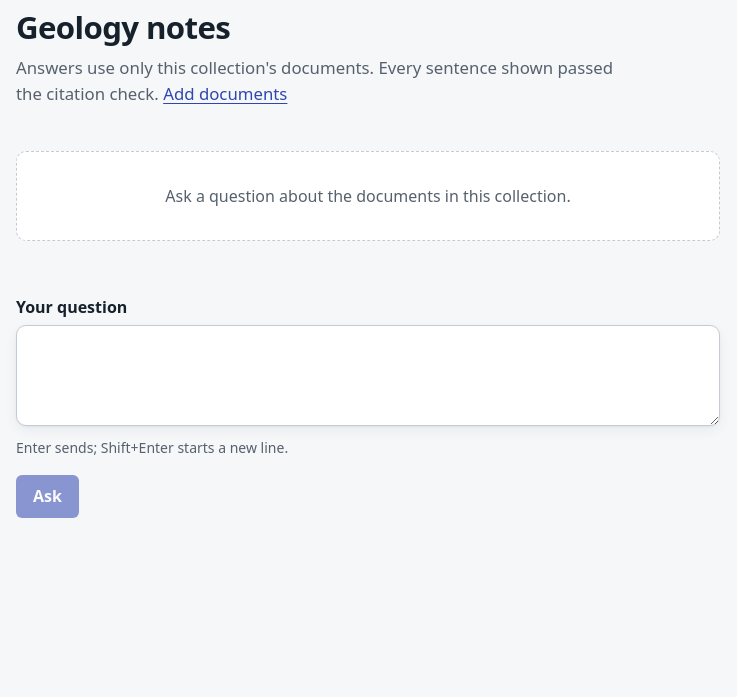
Test case: retry is disabled, and says why, while another answer is streaming
The width and height of the screenshot is (737, 697).
Type "First?" into the text box labelled "Your question" at (368, 376), box [16,325,720,426]
Then press Enter
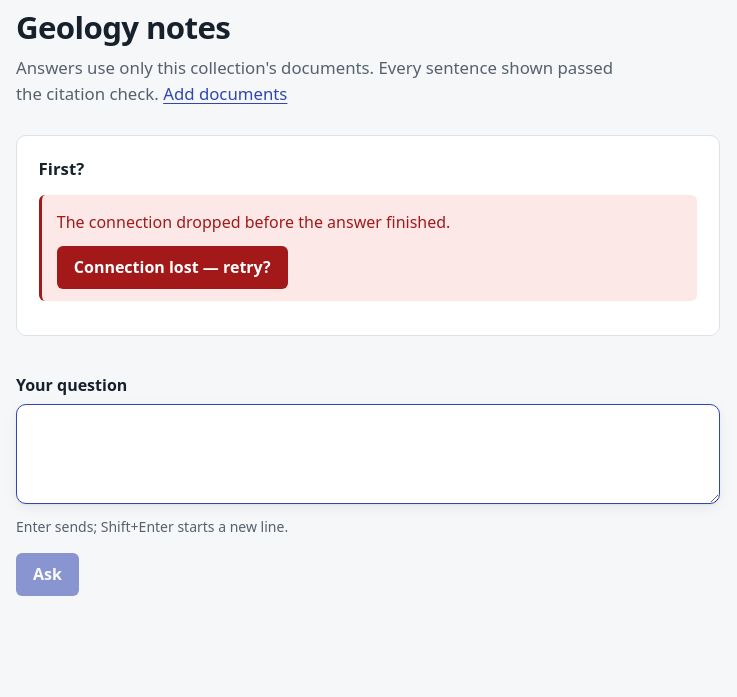
Result: the button "Connection lost — retry?" is shown at [57,246,288,289]
Type "Second?" into the text box labelled "Your question" at (368, 454), box [16,404,720,504]
Then press Enter
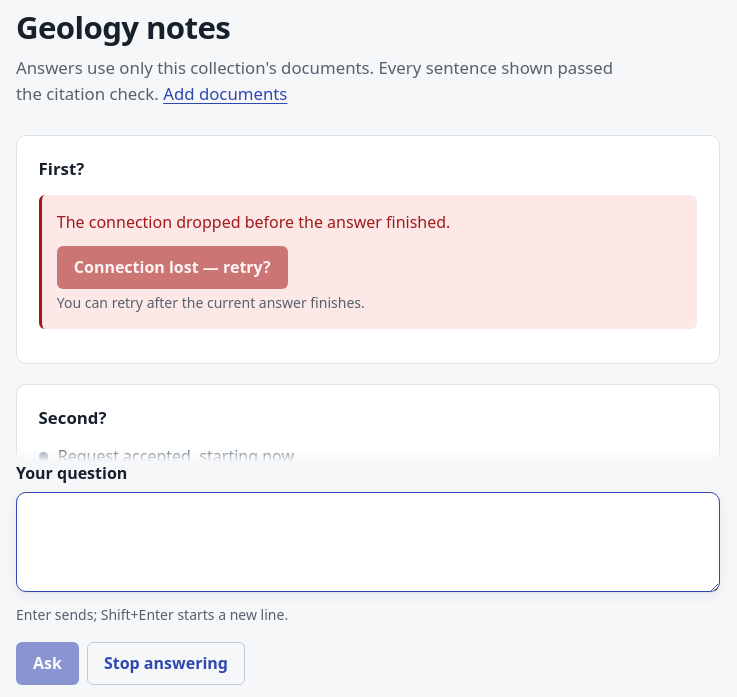
Result: the button "Connection lost — retry?" is disabled at [57,246,288,289]
Result: the text "You can retry after the current answer finishes." is shown at [57,293,365,312]
